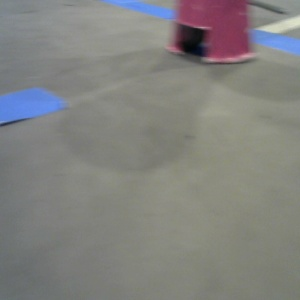right: (170, 1, 237, 45)
